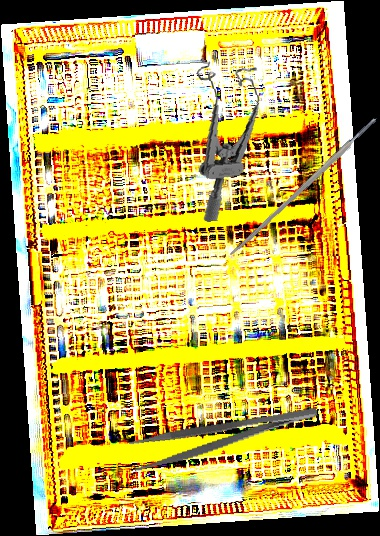Dressing Forceps: (128, 402, 322, 473)
Scalpel Handle: (228, 115, 380, 259)
Speculum: (183, 52, 277, 223)
